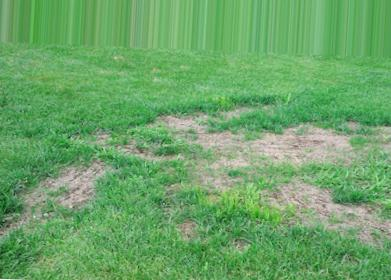patch: (295, 193, 349, 232), (276, 135, 324, 162), (179, 116, 216, 141), (212, 132, 250, 154), (66, 181, 97, 206), (206, 173, 231, 195)
